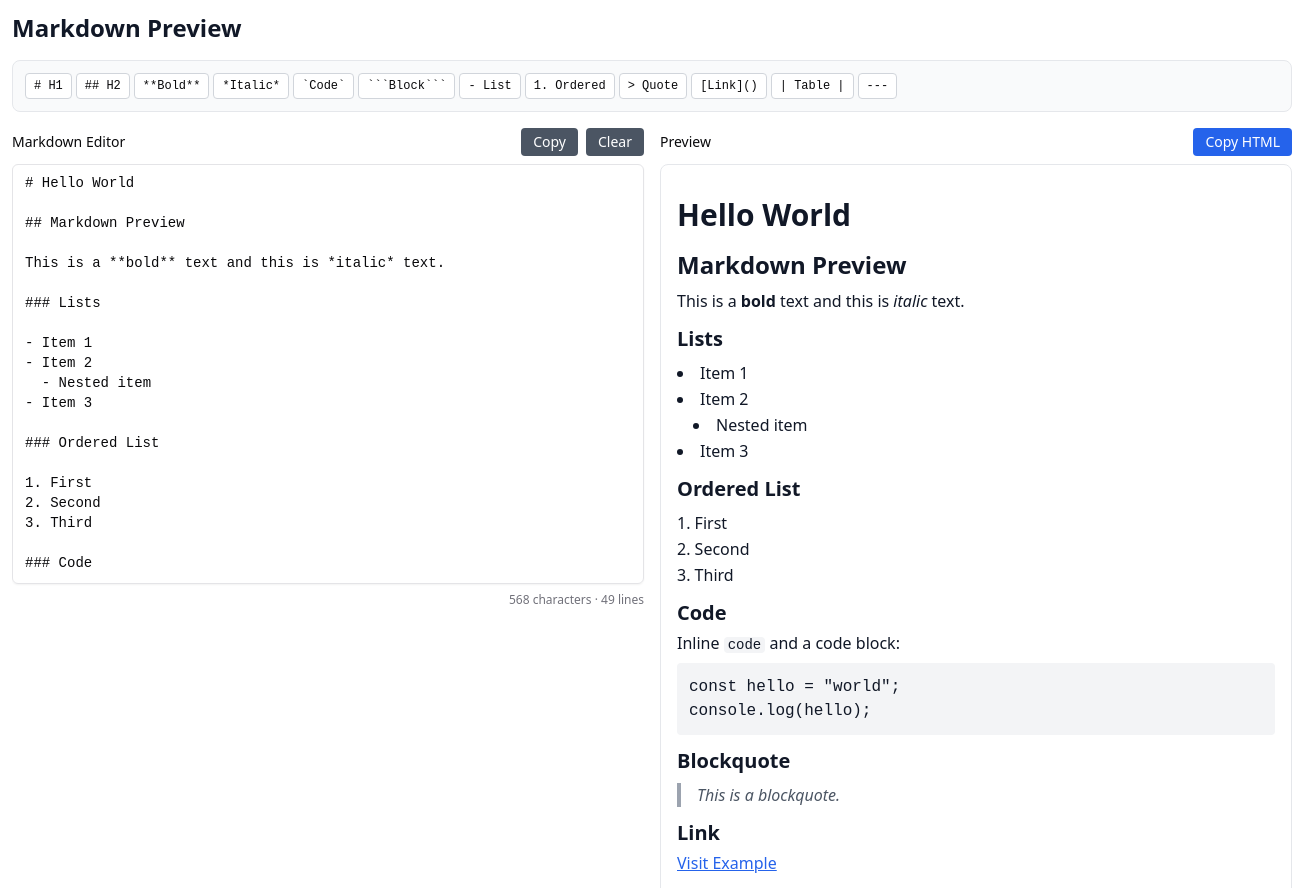
Scenario: MarkdownPreview › Character/Line Count › should show character count
Replace the text in the text box with test id "markdown-editor" with "hello": (328, 374) top-left (12, 164), bottom-right (644, 584)
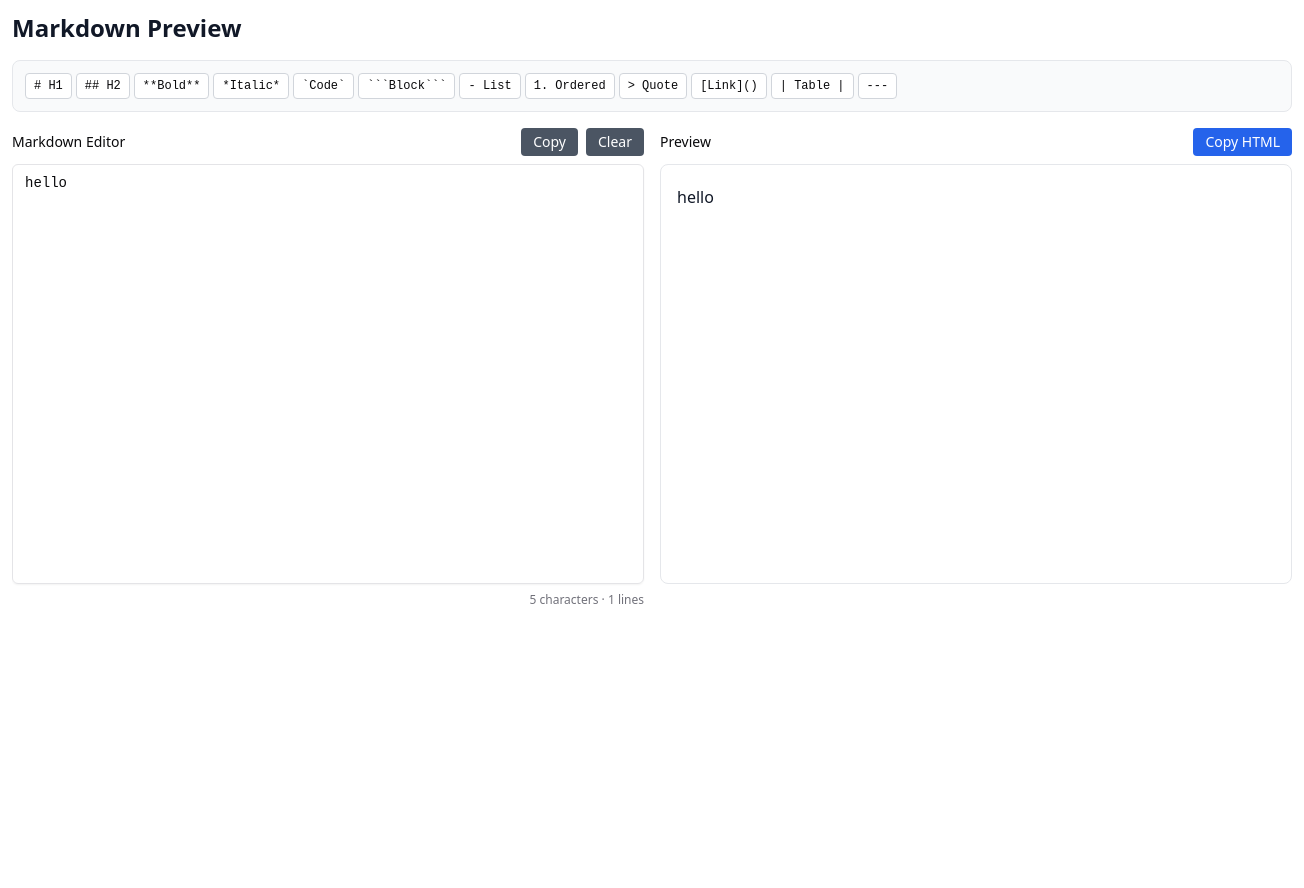
Expected: the text "5 characters · 1 lines" is shown, top-left (530, 591), bottom-right (644, 608)
